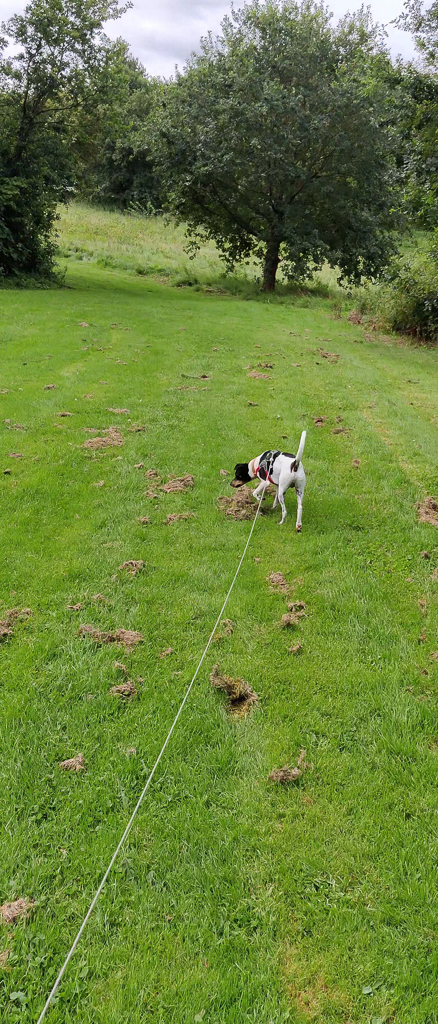Dog: (221, 421, 318, 542)
